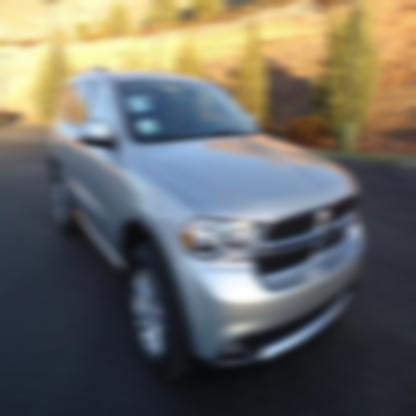Vehicle: (50, 67, 364, 386)
